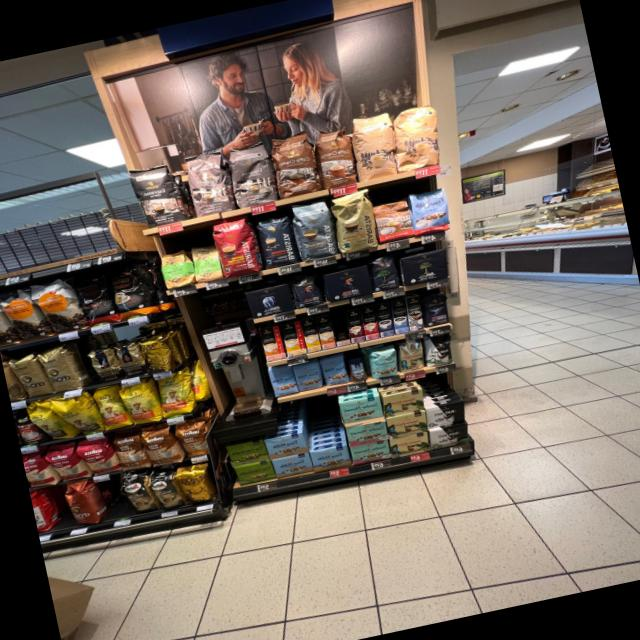AB Gemahlen: (244, 282, 294, 319)
Athiopien Bohne: (156, 248, 195, 290)
Athiopien Gemahlen: (188, 242, 223, 284)
BM Bohne: (368, 253, 402, 293)
BM Gemahlen: (398, 246, 452, 287)
BW Bohne: (421, 332, 457, 368)
BW Gemahlen: (424, 398, 468, 429), (427, 422, 472, 450)
Barista CB: (327, 187, 381, 255)
Barista CC: (288, 197, 338, 262)
Barista Espresso: (253, 212, 299, 270)
Barista Kolumbien: (210, 216, 261, 280)
C Fino Bohne: (419, 290, 452, 328)
CC Mild: (385, 100, 448, 172), (346, 110, 401, 181)
CC Vollmundig: (371, 197, 416, 243)
CC Vollmundig 36 Pads: (266, 130, 321, 200), (310, 124, 360, 190)
Colombia BB Bohne: (396, 338, 428, 372)
Colombia BB Gemahlen: (381, 387, 426, 417), (385, 408, 429, 438), (388, 430, 432, 458)
Empty Shelf: (329, 310, 348, 342)
Espresso Aromatisch: (222, 138, 278, 210), (181, 148, 235, 217)
Espresso Kraftig: (126, 159, 184, 228)
FM 36 Pads: (407, 186, 452, 237)
FM Bohne: (293, 360, 324, 391), (319, 354, 349, 386), (268, 364, 297, 397)
FM Gemahlen: (264, 430, 307, 460), (271, 450, 312, 480), (309, 443, 351, 472)
FM Instant: (346, 356, 370, 384)
Herzhatfe Mundig: (226, 438, 268, 468), (233, 458, 274, 486)
LG Bohne: (288, 272, 324, 310)
LG Gemahlen: (322, 264, 374, 304)
SM Bohne: (367, 346, 401, 381)
SM Gemahlen: (339, 394, 384, 424), (349, 439, 391, 466), (346, 420, 388, 447)
Simo CCMild: (281, 321, 306, 356)
Simo CCMild bigpack: (300, 316, 322, 352)
Simo CCVollmundig: (259, 324, 285, 362)
Simo CCVollmundig bigpack: (315, 314, 337, 349)
Simo Es Brazil: (359, 304, 381, 340)
Simo Es Caramel: (344, 307, 366, 343)
Simo Es Elegant: (404, 294, 426, 330)
Simo Es Kraft: (373, 300, 396, 338)
Simo Es Vanilla: (388, 298, 411, 334)
